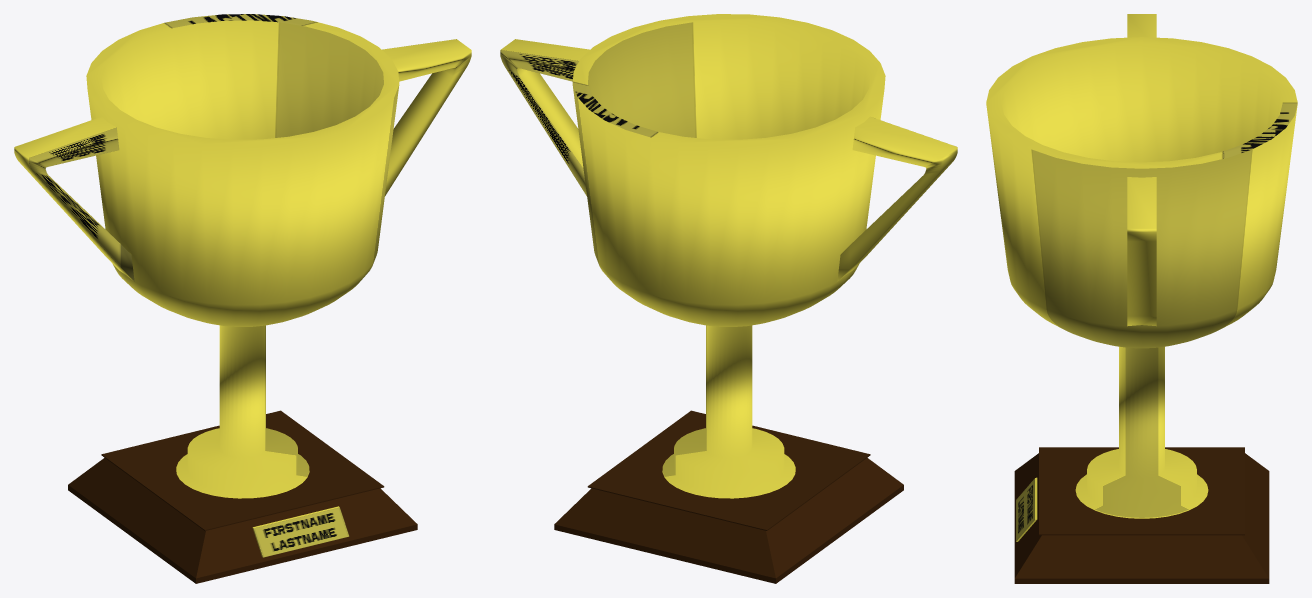
3 views of the same model, side by side, from view 1: azimuth 30°, elevation 25°; view 2: azimuth 150°, elevation 25°; view 3: azimuth 270°, elevation 25° (orthographic).
Parts seen in each view (by area): view 1: Cylinder.002; view 2: Cylinder.002; view 3: Cylinder.002.
Boxes of the visible parts, box(x1,y1,x2,y2) form: Cylinder.002: box(14, 14, 471, 583); Cylinder.002: box(500, 14, 957, 583); Cylinder.002: box(986, 14, 1297, 583).
Size of the model in its own units: 1.18 by 1.1 by 0.7241.
Materials: 2 (1 with a texture image).
